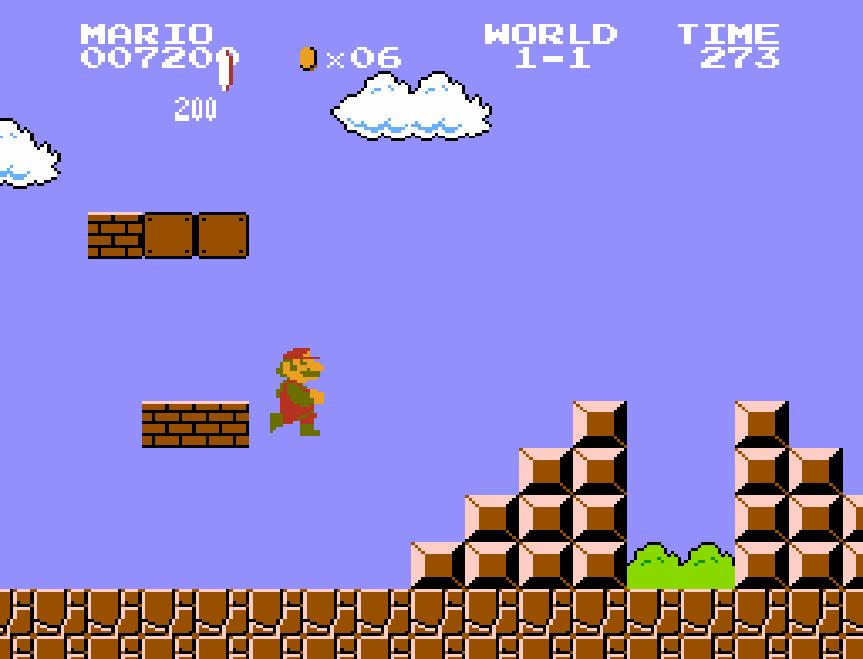big_mario: (267, 340, 325, 438)
